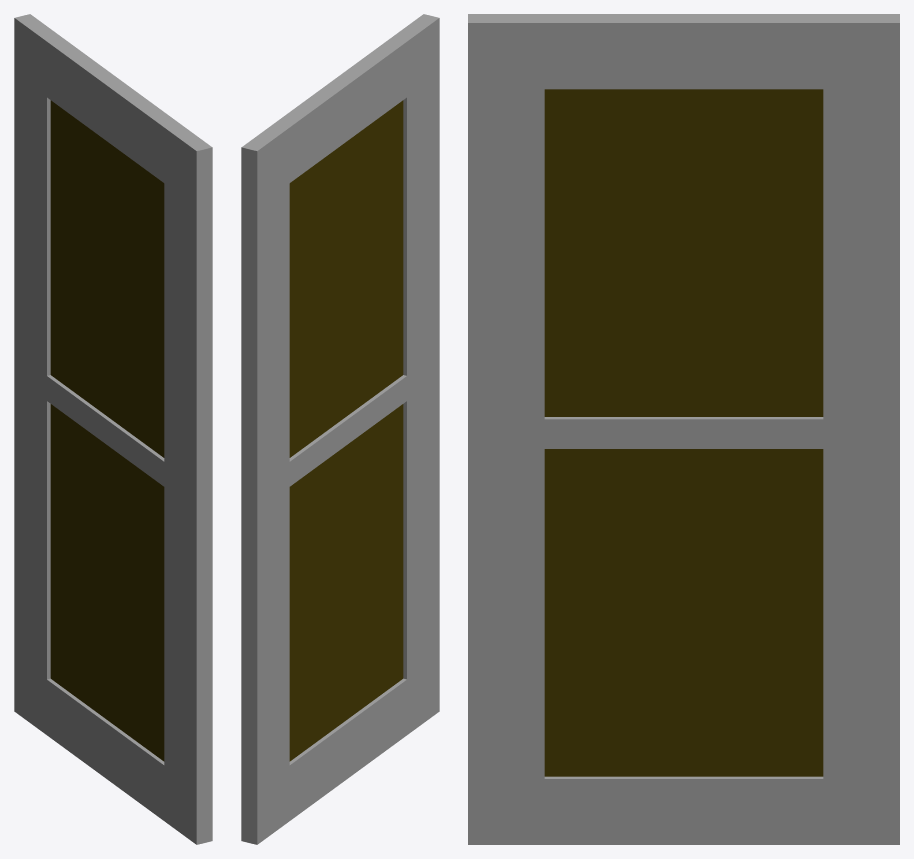
Rendered from windowed_door_l.fbx.
The picture shows the model from 3 angles, left to right: view 1: azimuth 30°, elevation 25°; view 2: azimuth 150°, elevation 25°; view 3: azimuth 270°, elevation 25°; orthographic projection. The views are drawn at different scales.
Parts seen in each view (by area): view 1: windowed_door_l; view 2: windowed_door_l; view 3: windowed_door_l.
Part boxes in pixels (box(x1,y1,x2,y2)): windowed_door_l: box(14, 14, 212, 844); windowed_door_l: box(241, 14, 439, 844); windowed_door_l: box(468, 14, 899, 844).
Bounding box in the file's own units: 5 × 210 × 100.
